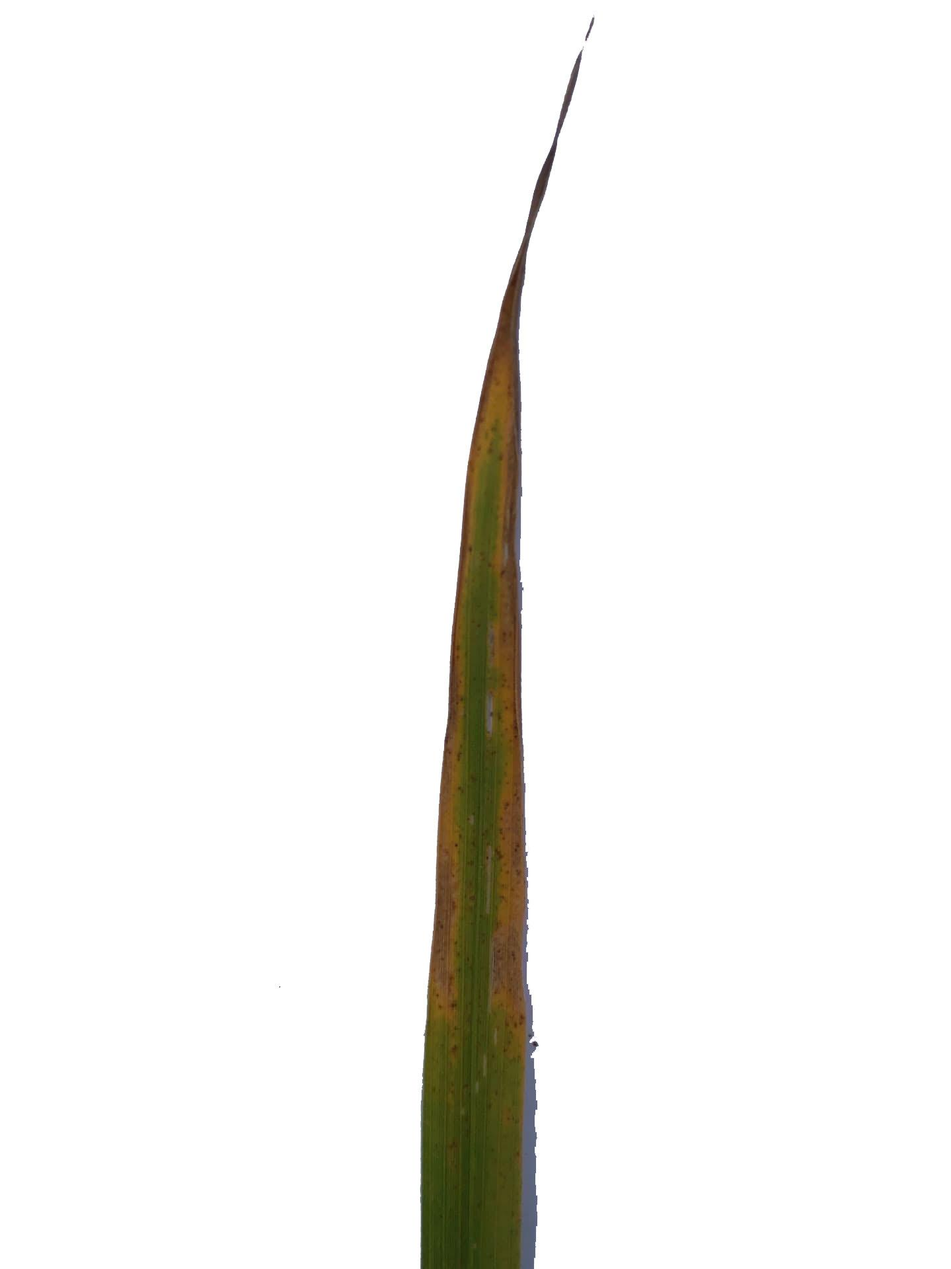Tungro: (421, 140, 557, 1269)
